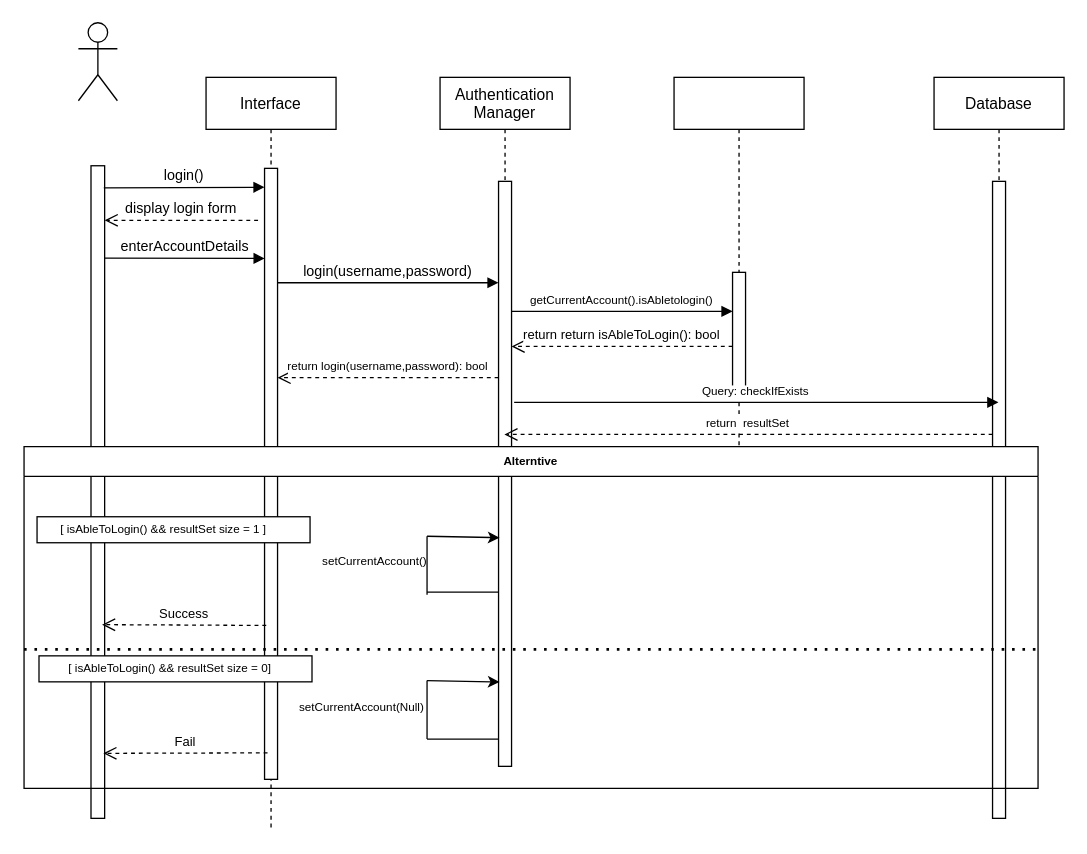
The diagram is 1087 pixels wide and 854 high, and some of its shapes have lost their labels. Each missing label, with the centre of its shape:
Account: point 738,271
Actor: point 97,61
